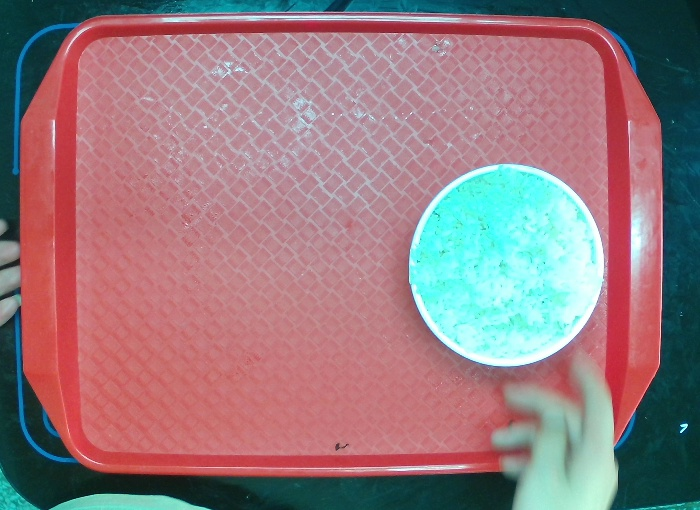YKMZ-Fan_Wan: (400, 158, 613, 374)
